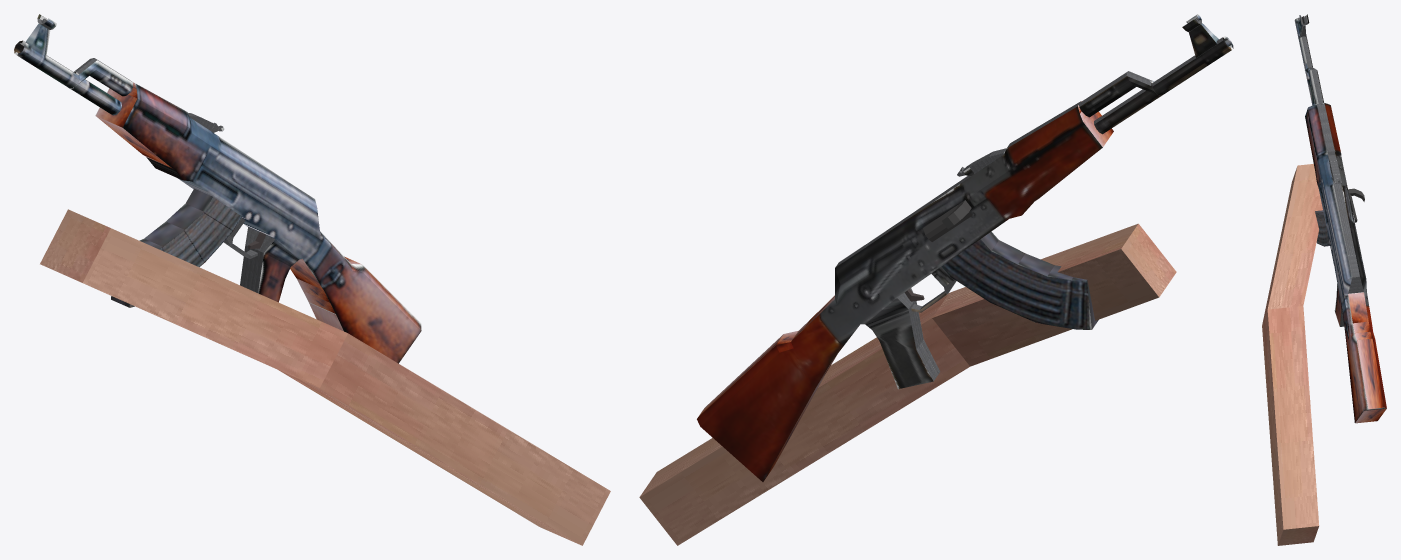
3 renders of one model, left to right at view 1: azimuth 30°, elevation 25°; view 2: azimuth 150°, elevation 25°; view 3: azimuth 270°, elevation 25°, orthographic. The views are drawn at different scales.
Visible parts, largest first — view 1: Cube.001_Cube.006, Cube.007_Cube.005, Cube.002_Cube.003; view 2: Cube.007_Cube.005, Cube.001_Cube.006, Cube.002_Cube.003, Plane; view 3: Cube.001_Cube.006, Cube.007_Cube.005, Cube.002_Cube.003, Plane.
Part boxes in pixels (x1,y1,x2,y2): Cube.001_Cube.006: (40,209,610,545); Cube.007_Cube.005: (14,14,421,363); Cube.002_Cube.003: (111,188,241,307); Cube.007_Cube.005: (697,14,1233,481); Cube.001_Cube.006: (639,223,1176,545); Cube.002_Cube.003: (941,231,1098,329); Plane: (923,200,972,241); Cube.001_Cube.006: (1262,164,1322,545); Cube.007_Cube.005: (1294,14,1386,423); Cube.002_Cube.003: (1315,210,1329,246); Plane: (1348,188,1364,222).
Bounding box in the file's own units: 8.87 × 9.31 × 2.77.
